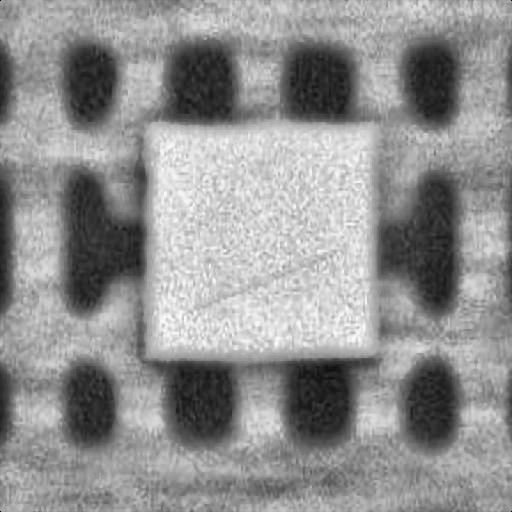DIE_CRACK: (270, 167, 498, 207)
